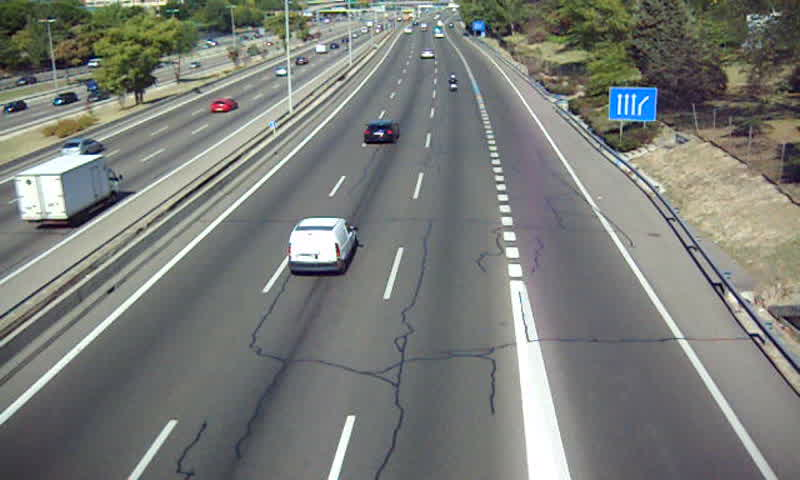car: (363, 121, 399, 145), (420, 50, 435, 60)
motorcycle: (446, 74, 460, 93)
van: (286, 217, 359, 274)
